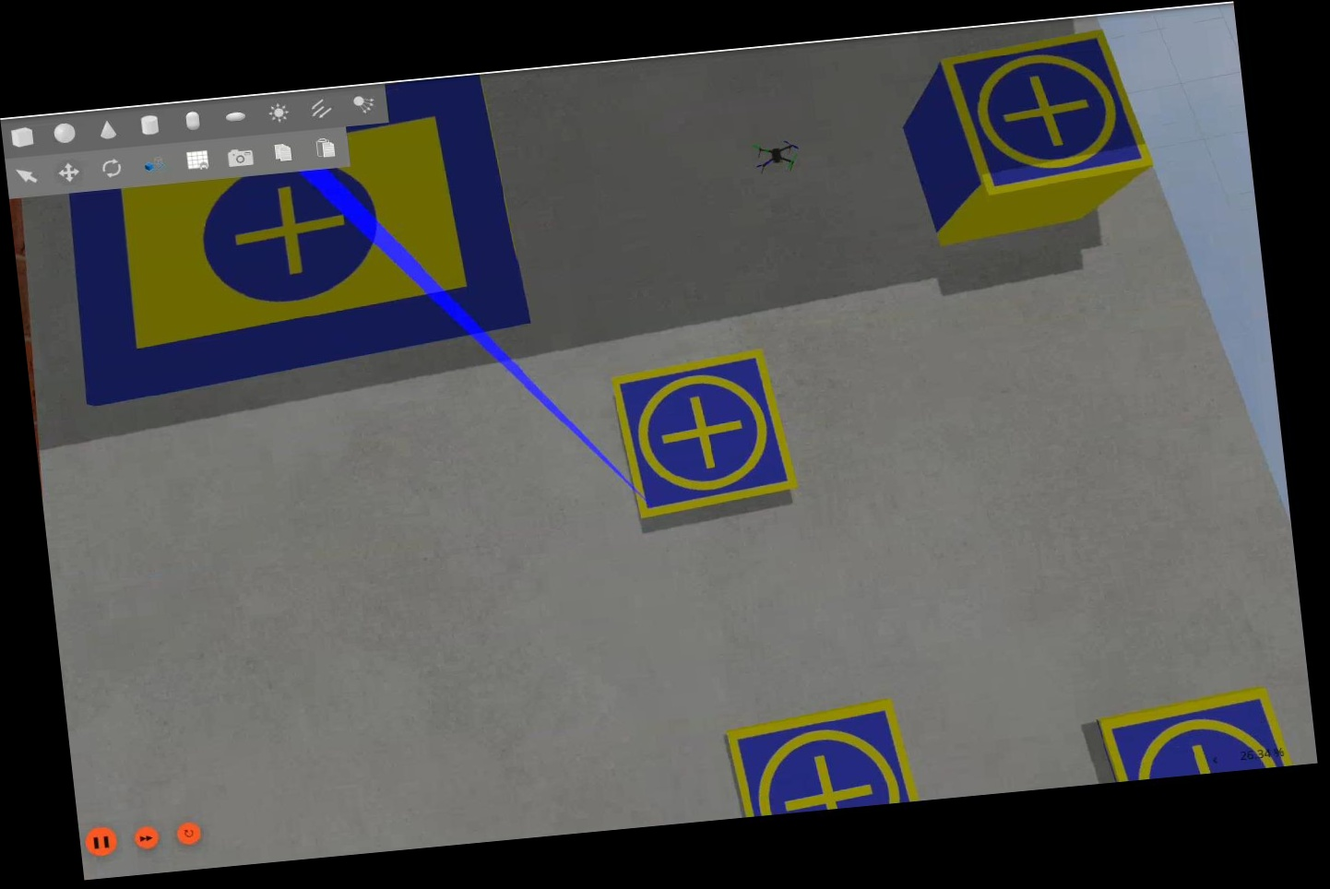large_base: (52, 70, 539, 409)
small_base: (932, 21, 1159, 199), (604, 342, 804, 527), (724, 694, 915, 819), (1095, 688, 1300, 785)
